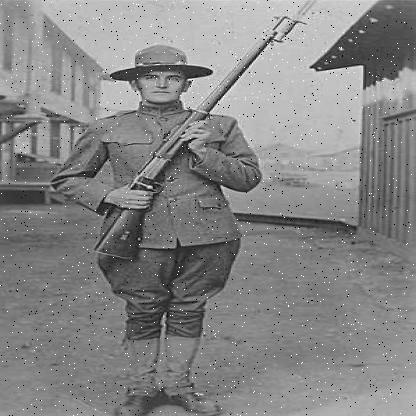rifle: (73, 7, 329, 272)
